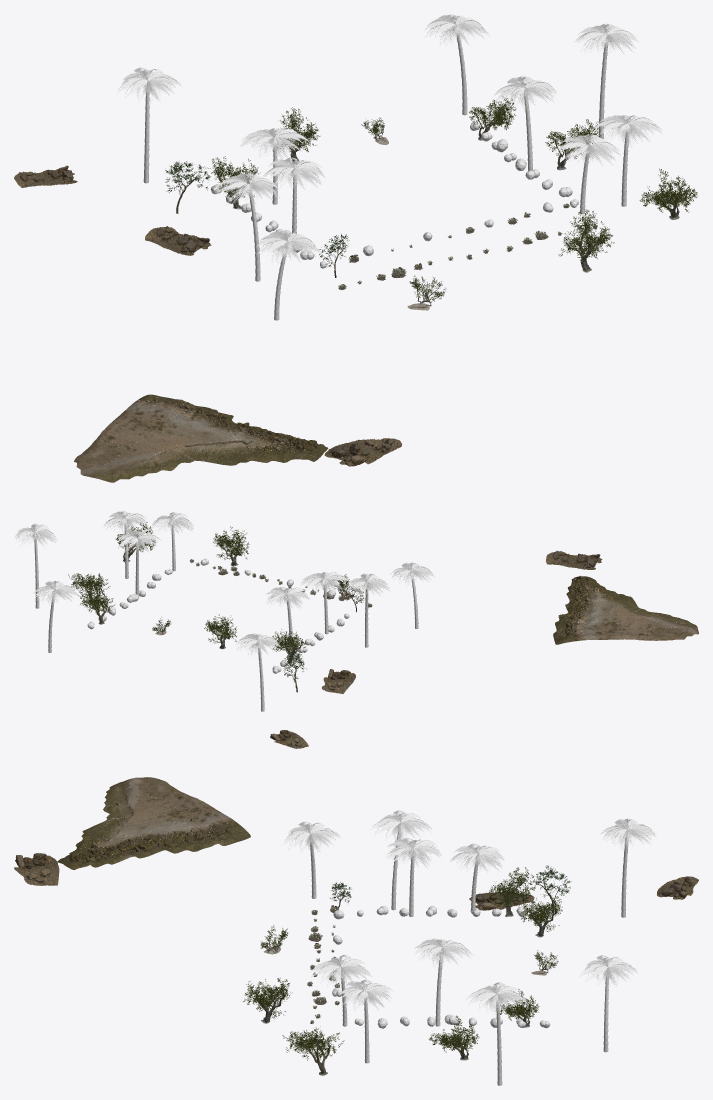
File: planting.glb
The picture shows the model from 3 angles, top to bottom: view 1: azimuth 30°, elevation 25°; view 2: azimuth 150°, elevation 25°; view 3: azimuth 270°, elevation 25°; orthographic projection. The views are drawn at different scales.
Visible parts, largest first — view 1: Rocks, Tree canopy.004, Rocks.002, Tree canopy.009, Palm crown.006, Palm crown.002, Palm crown.009, Palm crown.005, Palm crown.008, Palm crown.003, Palm crown.001, Palm crown.004 (+9 smaller); view 2: Rocks, Rocks.002, Tree canopy.004, Palm crown.001, Palm crown.003, Palm crown, Tree canopy.005, Palm crown.007, Palm crown.004, Rocks.001, Palm crown.006, Palm crown.008 (+7 smaller); view 3: Rocks, Rocks.002, Tree canopy.009, Tree canopy.004, Palm crown.002, Tree canopy, Palm crown, Palm crown.008, Palm crown.005, Palm crown.009, Palm crown.004, Palm crown.007 (+9 smaller).
Boxes of the visible parts, <box> form: Rocks: <box>74,394,328,482</box>; Tree canopy.004: <box>558,209,614,272</box>; Rocks.002: <box>324,438,401,466</box>; Tree canopy.009: <box>639,168,697,219</box>; Palm crown.006: <box>117,67,182,103</box>; Palm crown.002: <box>556,134,620,167</box>; Palm crown.009: <box>256,231,322,264</box>; Palm crown.005: <box>593,115,662,148</box>; Palm crown.008: <box>574,23,639,55</box>; Palm crown.003: <box>239,128,309,158</box>; Palm crown.001: <box>493,76,557,109</box>; Palm crown.004: <box>216,173,279,204</box>; Rocks: <box>553,575,698,644</box>; Rocks.002: <box>546,550,602,569</box>; Tree canopy.004: <box>213,526,249,566</box>; Palm crown.001: <box>118,529,161,553</box>; Palm crown.003: <box>266,587,310,607</box>; Palm crown: <box>300,572,348,594</box>; Tree canopy.005: <box>68,573,110,609</box>; Palm crown.007: <box>33,581,78,605</box>; Palm crown.004: <box>346,573,389,597</box>; Rocks.001: <box>322,669,355,693</box>; Palm crown.006: <box>236,633,282,657</box>; Palm crown.008: <box>14,523,57,547</box>; Rocks: <box>57,777,250,869</box>; Rocks.002: <box>14,853,59,885</box>; Tree canopy.009: <box>282,1026,344,1075</box>; Tree canopy.004: <box>243,978,292,1023</box>; Palm crown.002: <box>310,955,372,986</box>; Tree canopy: <box>489,867,532,916</box>; Palm crown: <box>386,838,442,867</box>; Palm crown.008: <box>465,982,528,1013</box>; Palm crown.005: <box>338,979,393,1011</box>; Palm crown.009: <box>282,821,341,854</box>; Palm crown.004: <box>370,810,432,840</box>; Palm crown.007: <box>579,955,638,987</box>.
Bounding box in the file's own units: 88.26 × 13.62 × 77.46.
20 materials, 16 textured.
